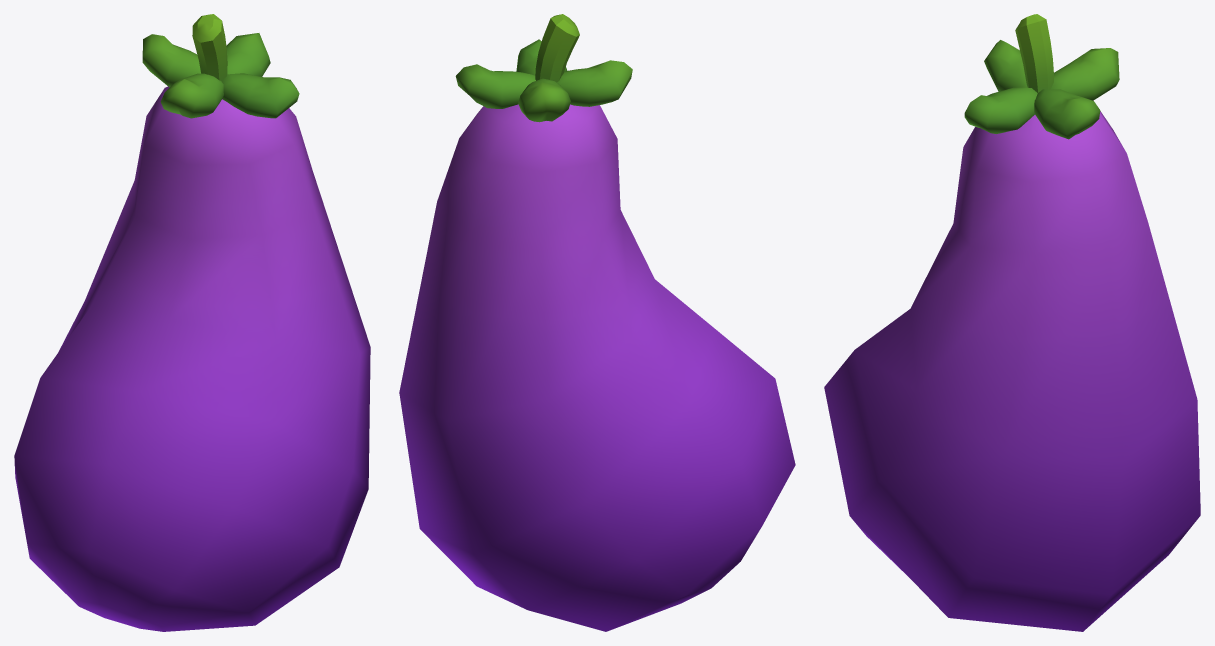
File: Eggplant.fbx
3 renders of one model, left to right at view 1: azimuth 30°, elevation 25°; view 2: azimuth 150°, elevation 25°; view 3: azimuth 270°, elevation 25°, orthographic. The views are drawn at different scales.
Parts seen in each view (by area): view 1: Eggplant; view 2: Eggplant; view 3: Eggplant.
Part boxes in pixels (<box>): Eggplant: <box>14,14,370,631</box>; Eggplant: <box>399,14,795,631</box>; Eggplant: <box>824,14,1200,631</box>.
Size of the model in its own units: 30.07 by 50.76 by 28.16.
Materials: 1 (1 with a texture image).
